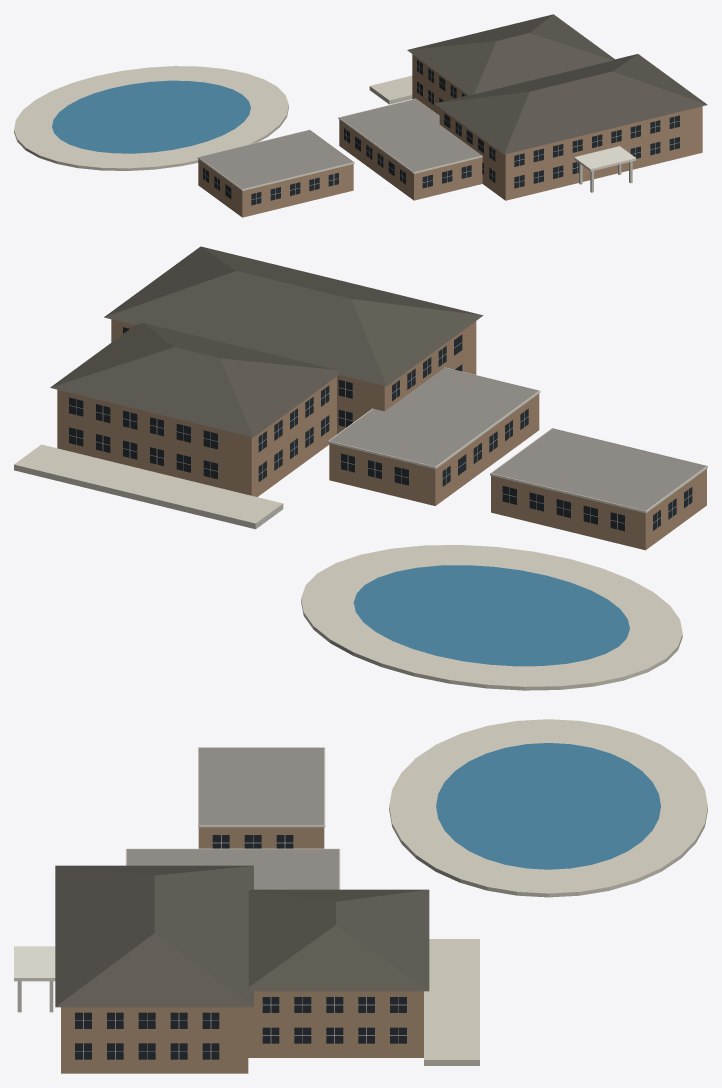
File: country-club-clubhouse-1961.glb
3 views of the same model, one above another, from view 1: azimuth 30°, elevation 25°; view 2: azimuth 150°, elevation 25°; view 3: azimuth 270°, elevation 25° (orthographic). The views are drawn at different scales.
Parts seen in each view (by area): view 1: country_roof, country_brick, country_deck, country_water, country_flat, country_glass, country_white, country_sash; view 2: country_roof, country_brick, country_deck, country_water, country_flat, country_glass, country_white, country_sash; view 3: country_roof, country_deck, country_water, country_brick, country_flat, country_glass, country_white, country_sash.
Part boxes in pixels (x1,y1,x2,y2): country_roof: (407, 14, 707, 154); country_brick: (198, 54, 702, 217); country_deck: (14, 66, 412, 170); country_water: (52, 80, 250, 153); country_flat: (199, 99, 481, 189); country_glass: (203, 60, 679, 205); country_white: (197, 98, 636, 190); country_sash: (203, 62, 679, 203); country_roof: (50, 246, 483, 437); country_brick: (57, 319, 706, 550); country_deck: (14, 444, 682, 690); country_water: (353, 565, 629, 666); country_flat: (330, 368, 705, 510); country_glass: (69, 327, 692, 531); country_white: (328, 367, 707, 513); country_sash: (69, 342, 692, 529); country_roof: (55, 865, 429, 1007); country_deck: (389, 719, 707, 1065); country_water: (436, 743, 660, 869); country_brick: (61, 827, 423, 1073); country_flat: (126, 748, 339, 889); country_glass: (75, 835, 406, 1059); country_white: (14, 747, 340, 981); country_sash: (75, 835, 406, 1059).
Size of the model in its own units: 89.1 by 11.9 by 74.
